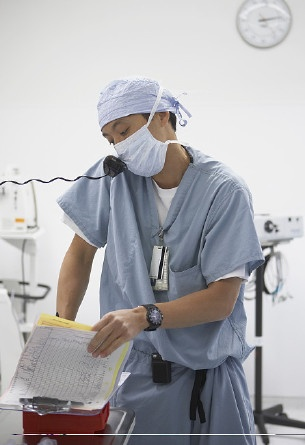Mask: (102, 127, 156, 181)
